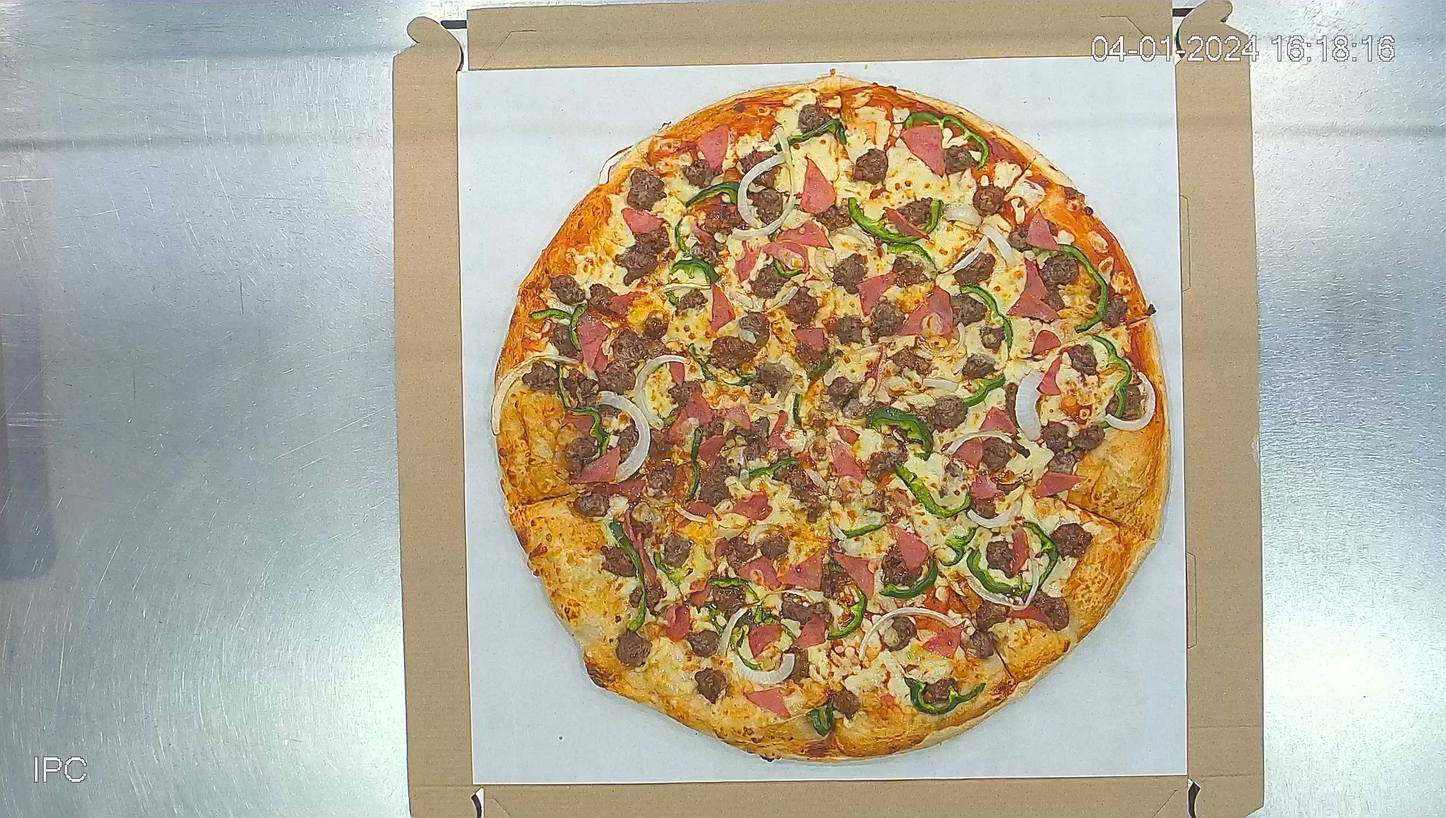hawaiian: (490, 70, 1172, 764)
